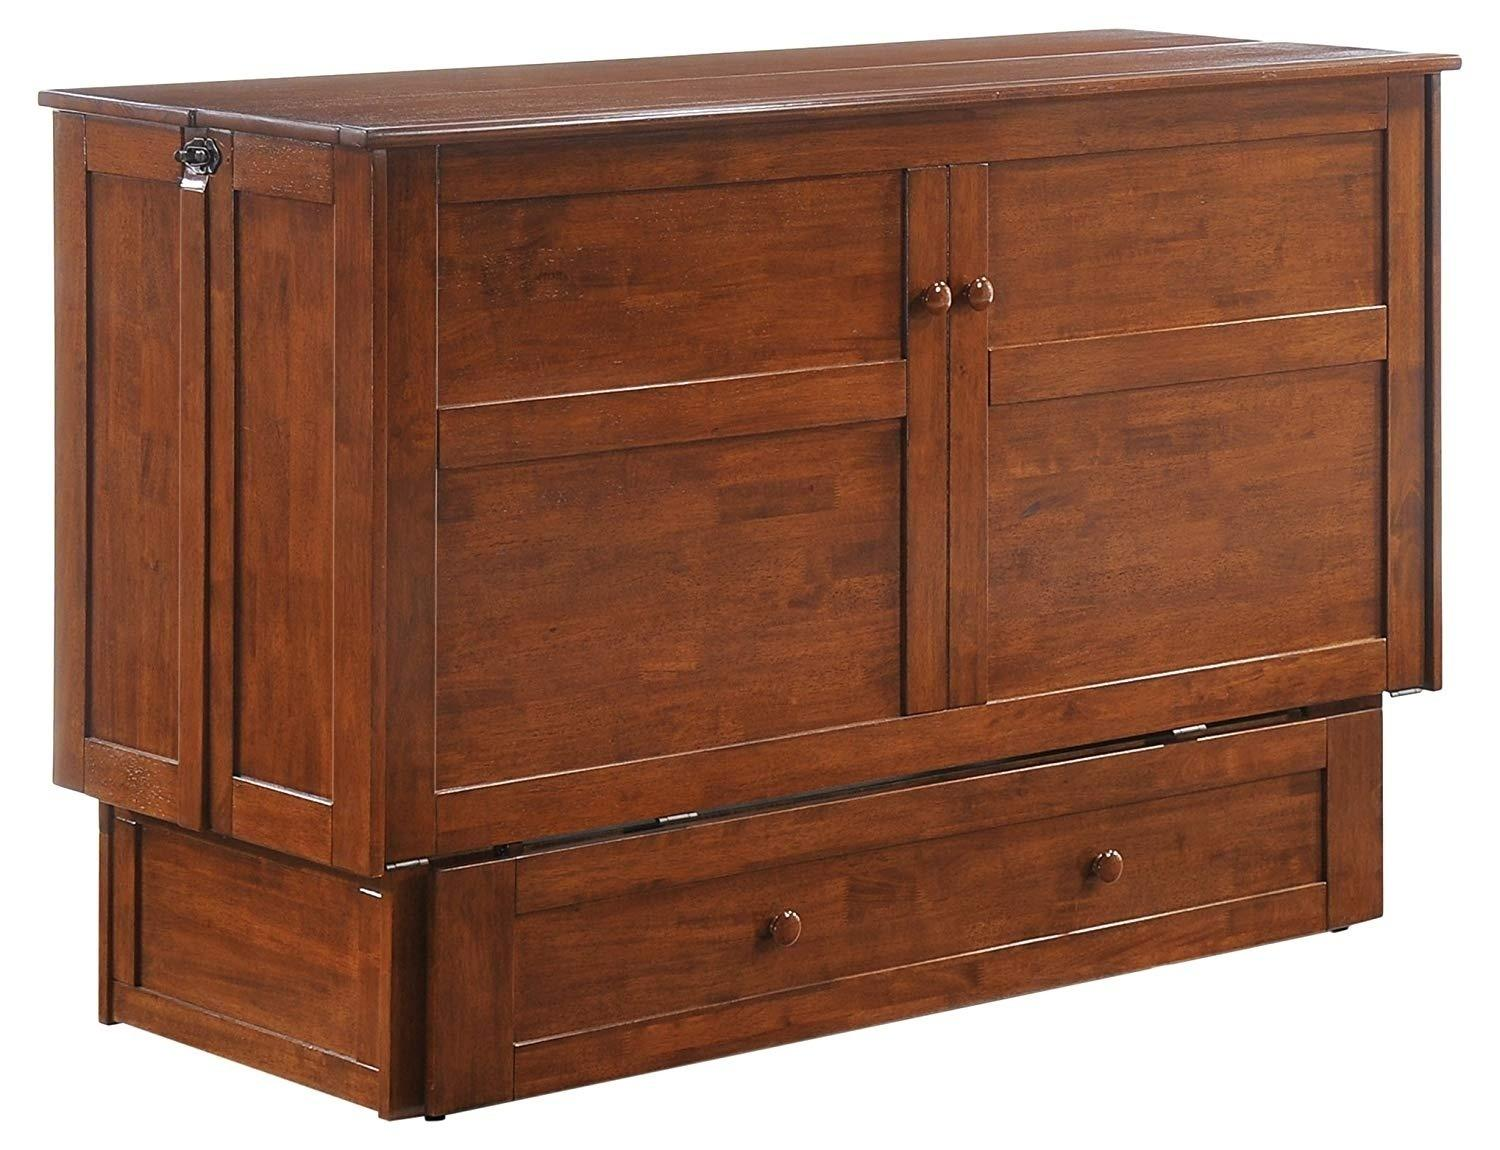cabinet_door: (444, 185, 948, 755), (944, 143, 1385, 666), (518, 798, 1343, 960)
handle: (758, 904, 816, 957), (1077, 838, 1132, 887), (960, 271, 998, 323), (917, 275, 952, 320)
